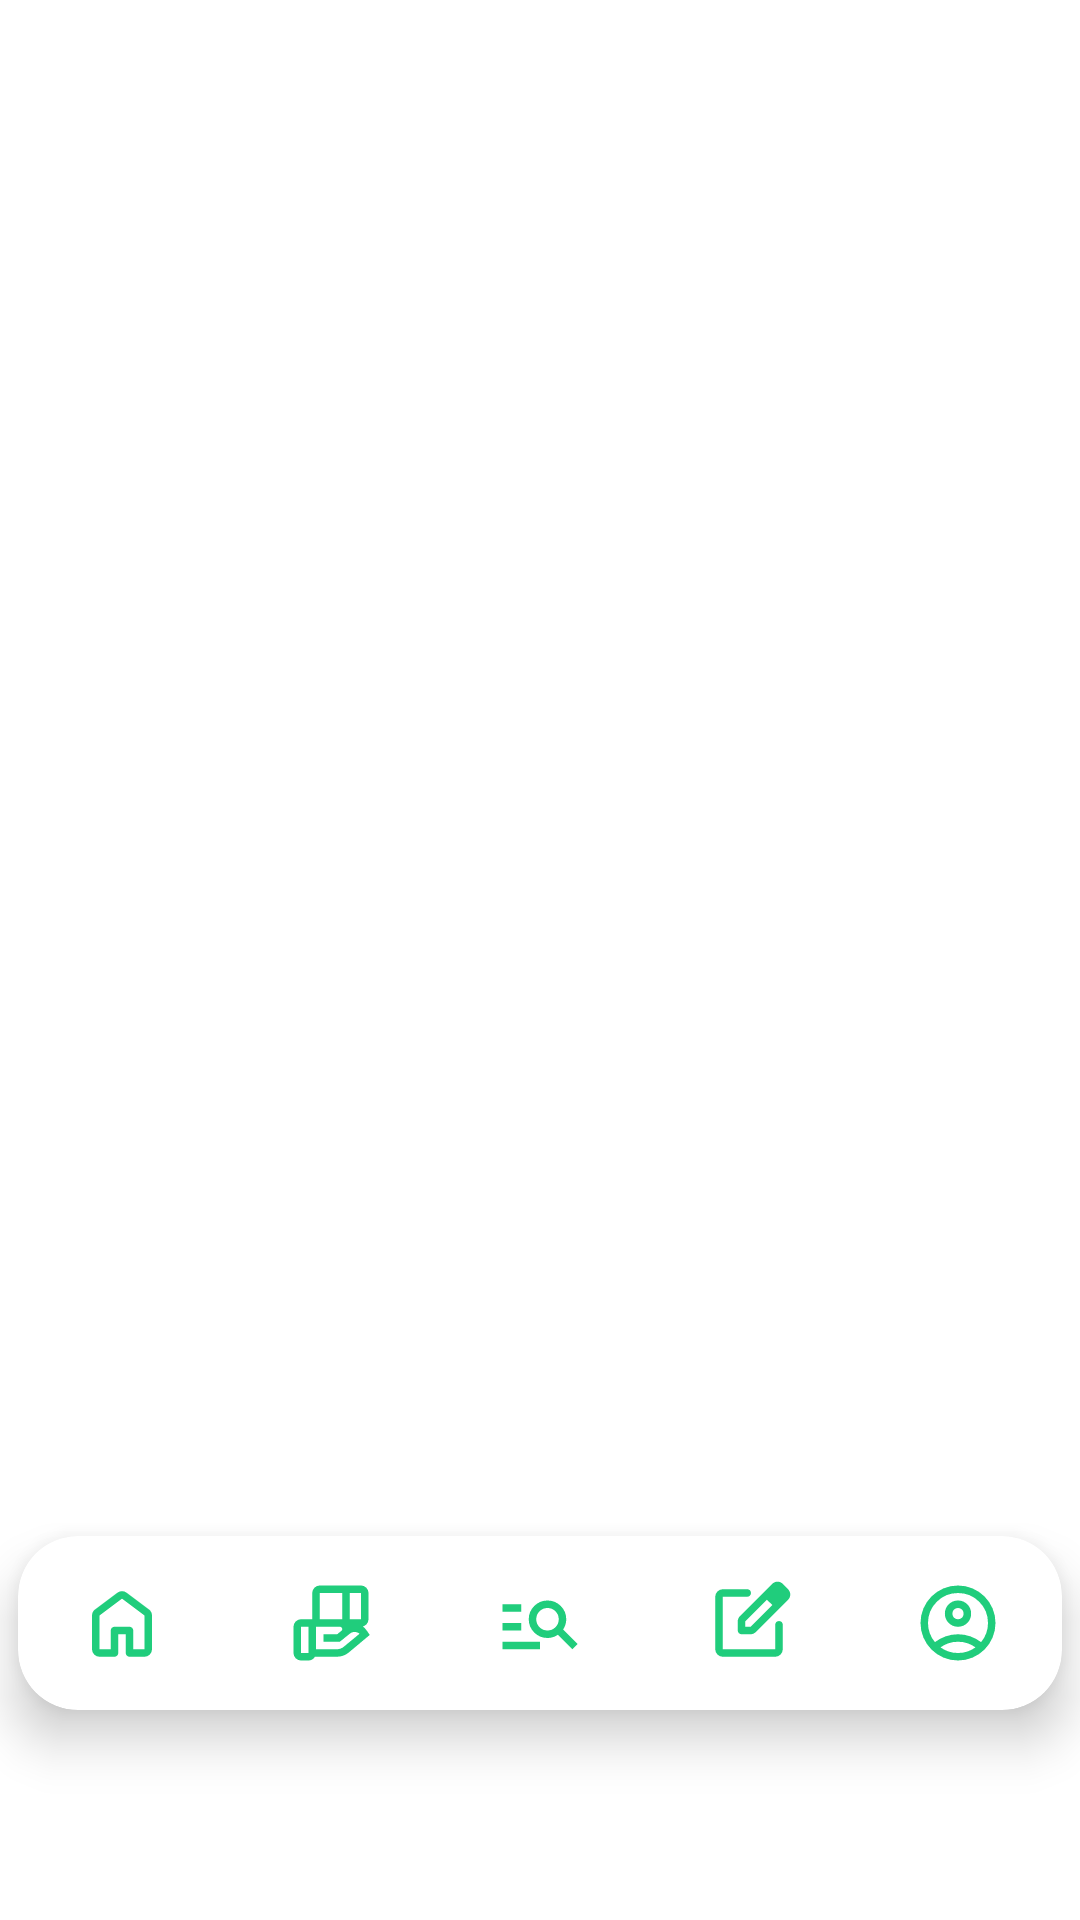

Where to tap for icons on this 1080 x 1920 app screen, as [x,y]:
home: [122,1624]
나눔 게시판: [331,1623]
마이페이지: [958,1623]
분실물 게시판: [540,1625]
작성: [753,1619]
